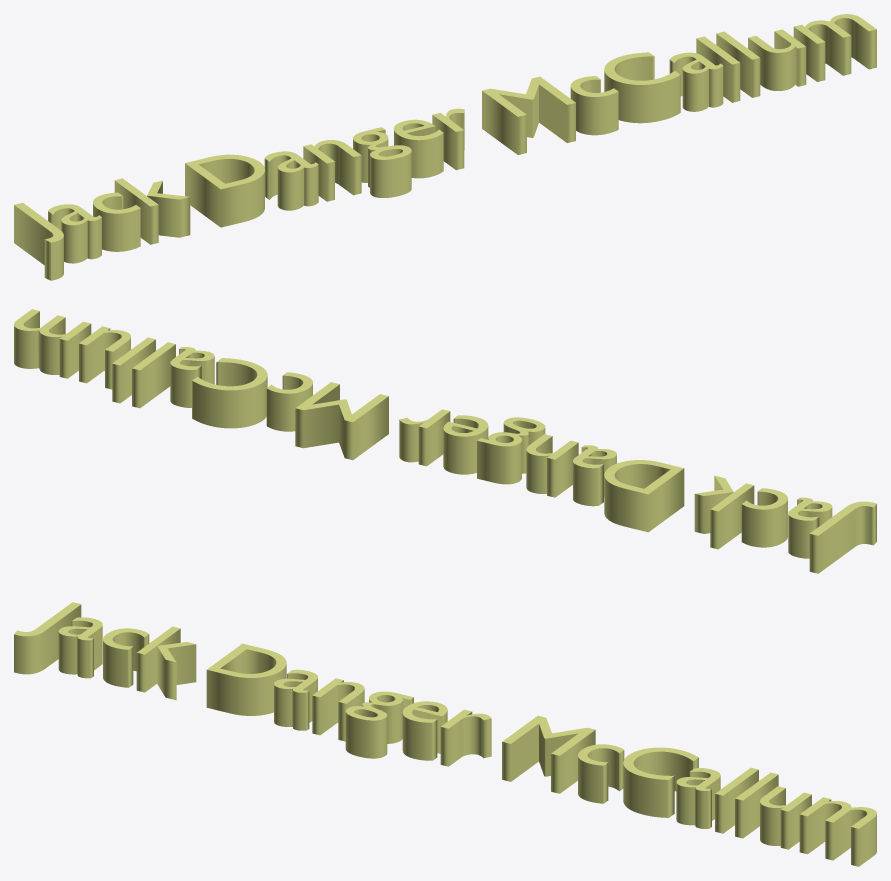
The model's file is Jack Danger McCallum.gltf.
3 renders of one model, top to bottom at view 1: azimuth 30°, elevation 25°; view 2: azimuth 150°, elevation 25°; view 3: azimuth 330°, elevation 25°, orthographic.
Parts seen in each view (by area): view 1: Text; view 2: Text; view 3: Text.
Part boxes in pixels (x1,y1,x2,y2): Text: (14,14,876,280); Text: (14,309,876,573); Text: (14,602,876,866).
Bounding box in the file's own units: 9.2 × 0.4 × 0.921.
